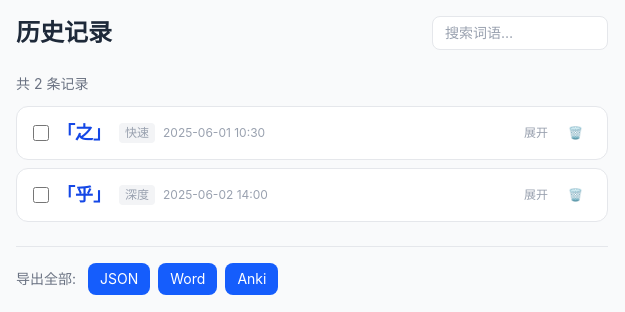
HistoryView › filters records by search query
Type "乎" into the field with placeholder "搜索词语…" at (520, 33), box [432,16,608,50]
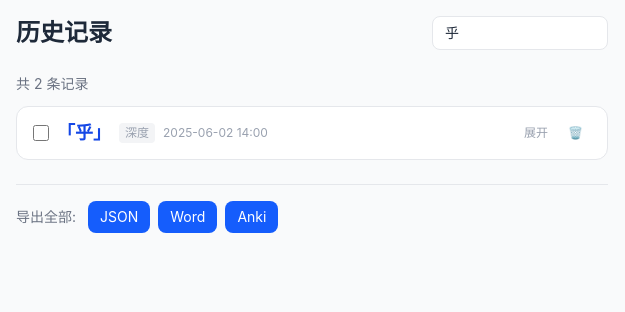
Expected: the text "乎" is shown, [57,122,111,143]
Expected: the text "之" is gone
